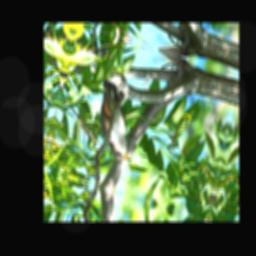Cuckoo: (89, 80, 146, 165)
